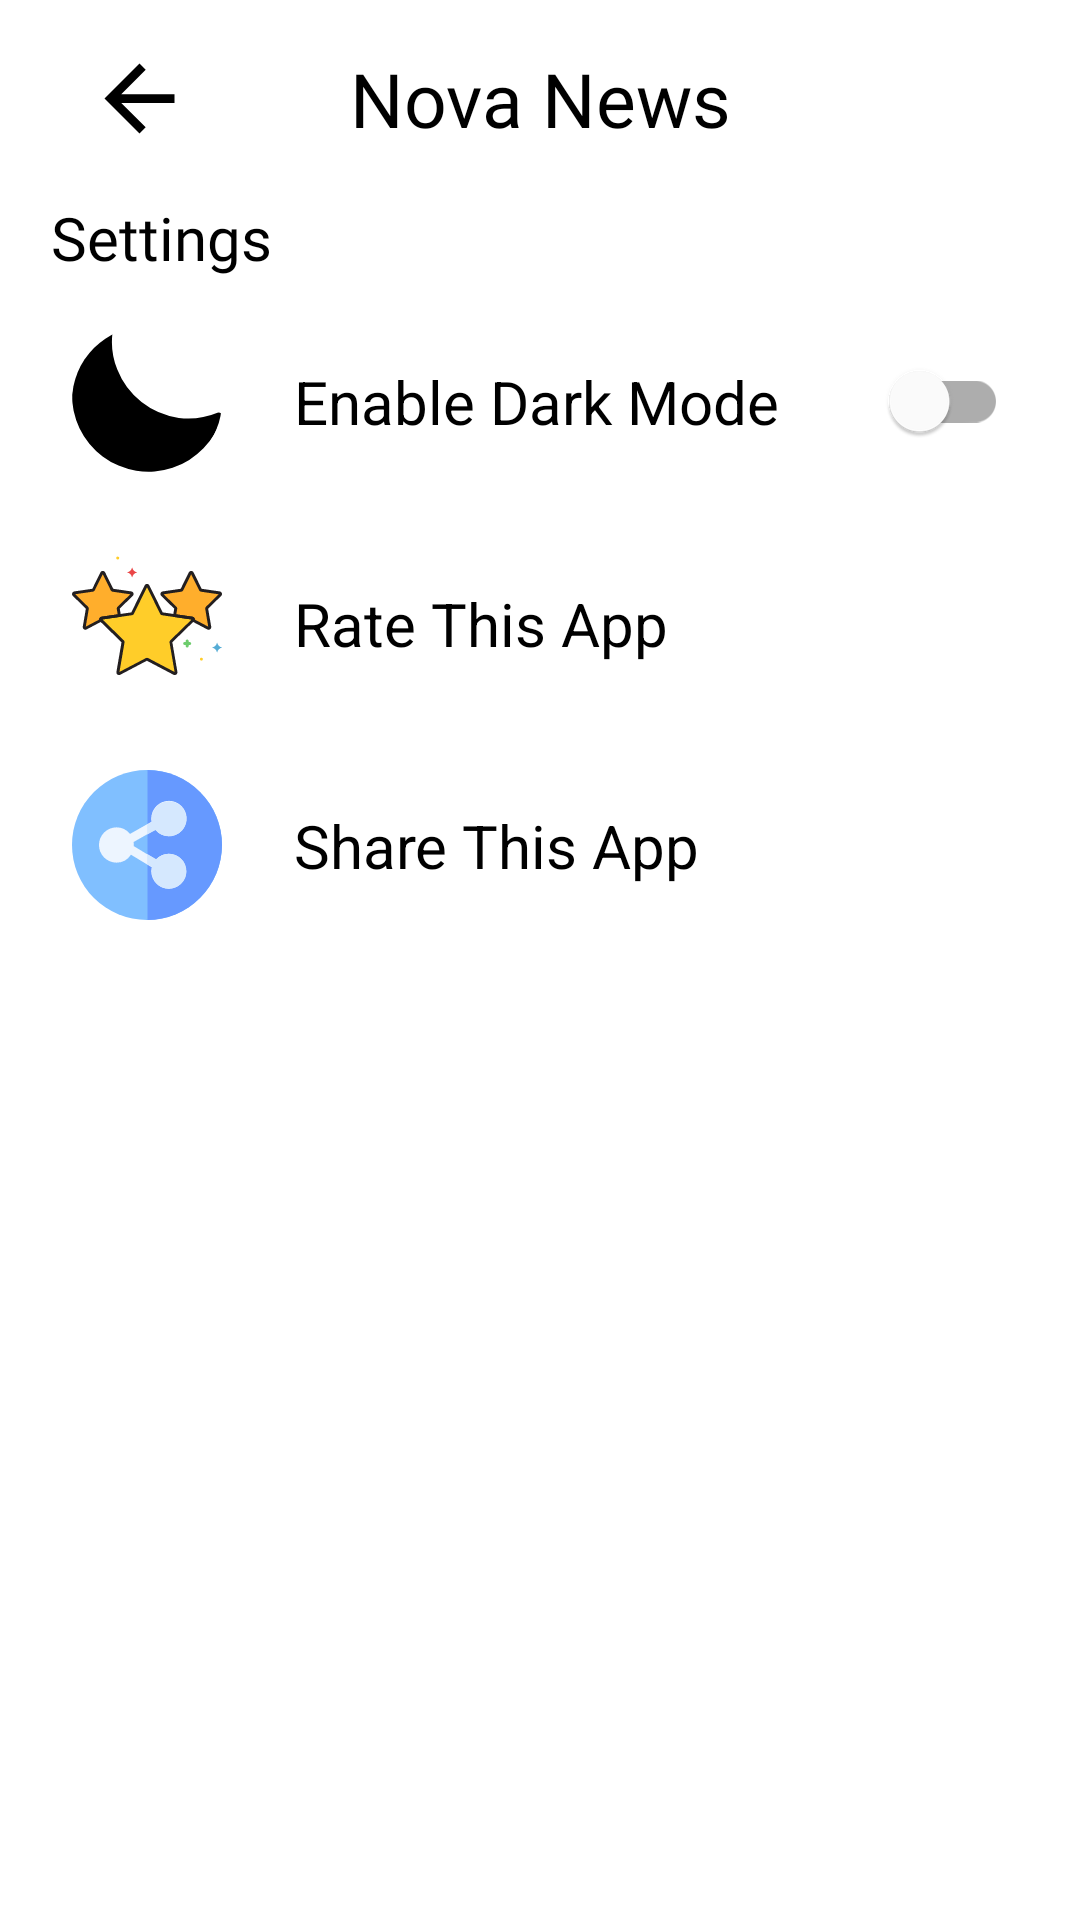

Icon bounding boxes for this 1080*1920 phone screenshot, format (x1, y1, x2, y2):
arrow back: (104, 63, 175, 134)
moon: (72, 334, 221, 472)
stars rating: (72, 556, 222, 675)
